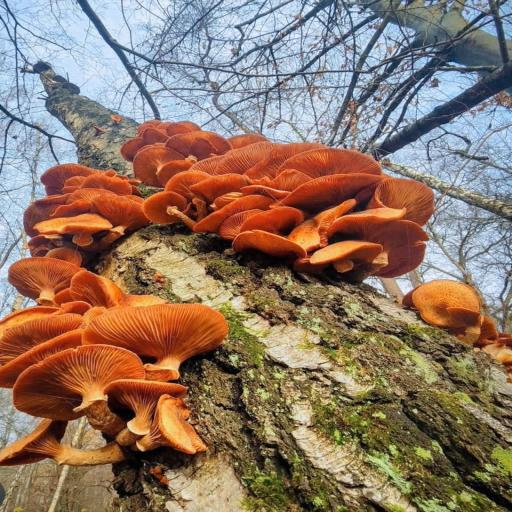Jack O Lantern Mushroom: (168, 124, 438, 287), (79, 295, 233, 380), (11, 164, 140, 248), (7, 344, 141, 420), (0, 296, 98, 383), (0, 415, 133, 479), (328, 213, 441, 279), (123, 113, 228, 178), (0, 254, 110, 303), (103, 377, 182, 442), (411, 274, 483, 337), (296, 233, 388, 279), (135, 192, 201, 229), (228, 228, 295, 259), (468, 313, 512, 357)
